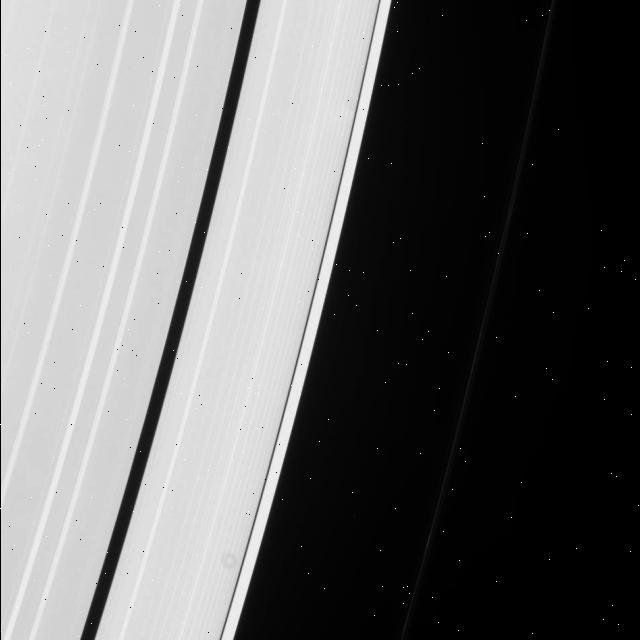Saturn: (0, 0, 568, 640)
